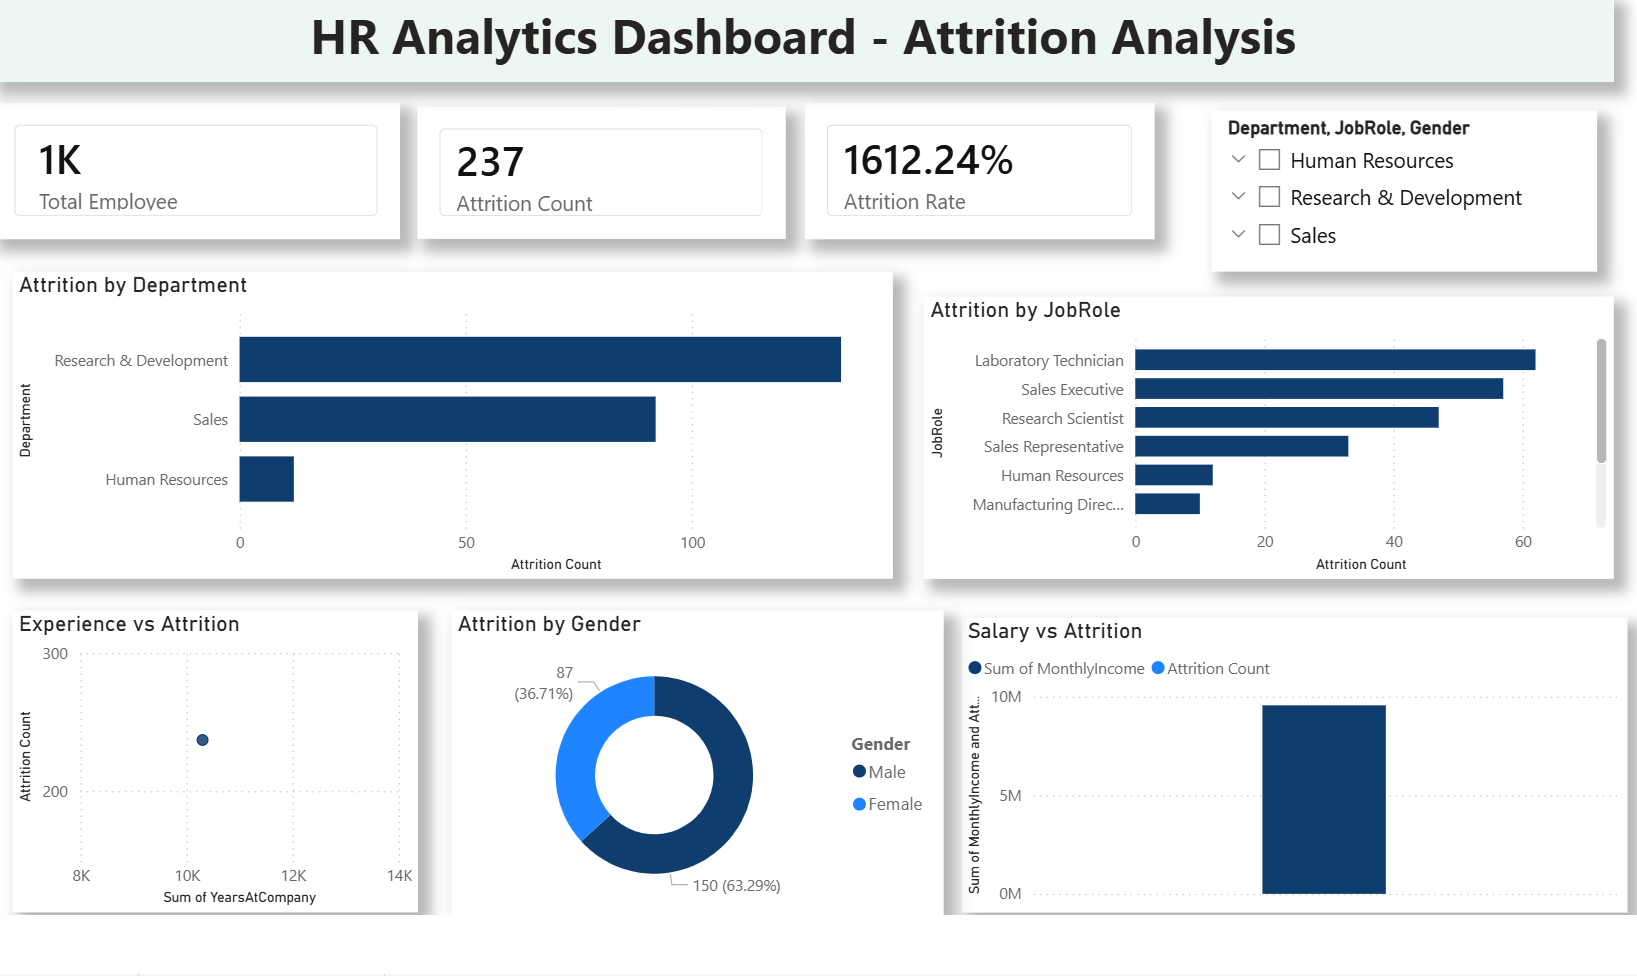

Layout of this report page (visuals, bound fields, positions):
{"tool":"powerbi","page":{"name":"Page 1","canvas":[1280,720],"ordinal":0},"visuals":[{"type":"cardVisual","fields":{"Data":["cleaned_hr_data.Total Employee"]},"box":[5.6,91.6,315.2,105.5],"z":0},{"type":"barChart","title":"Attrition by JobRole","fields":{"Category":["cleaned_hr_data.JobRole"],"Y":["cleaned_hr_data.Attrition Count"]},"box":[726.2,241.6,533.2,218],"z":1000},{"type":"columnChart","title":"Salary vs Attrition","fields":{"Y":["Sum(cleaned_hr_data.MonthlyIncome)","cleaned_hr_data.Attrition Count"]},"box":[755.4,490.2,515.2,227.7],"z":2000},{"type":"barChart","title":"Attrition by Department","fields":{"Category":["cleaned_hr_data.Department"],"Y":["cleaned_hr_data.Attrition Count"]},"box":[20.8,222.2,680.4,237.4],"z":3000},{"type":"donutChart","title":"Attrition by Gender","fields":{"Y":["cleaned_hr_data.Attrition Count"],"Category":["cleaned_hr_data.Gender"]},"box":[361,484.6,380.5,236.1],"z":4000},{"type":"slicer","fields":{"Values":["cleaned_hr_data.Department","cleaned_hr_data.JobRole","cleaned_hr_data.Gender"]},"box":[948.4,97.2,298.5,125],"z":5000},{"type":"scatterChart","title":"Experience vs Attrition ","fields":{"X":["Sum(cleaned_hr_data.YearsAtCompany)"],"Y":["cleaned_hr_data.Attrition Count"]},"box":[20.8,484.6,313.8,233.3],"z":6000},{"type":"cardVisual","fields":{"Data":["cleaned_hr_data.Attrition Count"]},"box":[334.7,94.4,284.7,102.8],"z":7000},{"type":"cardVisual","fields":{"Data":["cleaned_hr_data.Attrition Rate"]},"box":[634,91.6,270.8,105.5],"z":8000},{"type":"textbox","box":[5.6,9.7,1253.9,66.7],"z":9000}]}

Visuals, with their boxes on the page's 1280x720 design canvas (x1, y1, x2, y2). These are canvas units, not pixel positions in the 1637x976 screenshot, which may show the page scaled, cropped or inside an application window:
cardVisual - cleaned_hr_data.Total Employee: 6, 92, 321, 197
"Attrition by JobRole" barChart: 726, 242, 1259, 460
"Salary vs Attrition" columnChart: 755, 490, 1271, 718
"Attrition by Department" barChart: 21, 222, 701, 460
"Attrition by Gender" donutChart: 361, 485, 742, 721
slicer - cleaned_hr_data.Department x cleaned_hr_data.JobRole: 948, 97, 1247, 222
"Experience vs Attrition " scatterChart: 21, 485, 335, 718
cardVisual - cleaned_hr_data.Attrition Count: 335, 94, 619, 197
cardVisual - cleaned_hr_data.Attrition Rate: 634, 92, 905, 197
textbox: 6, 10, 1260, 76
